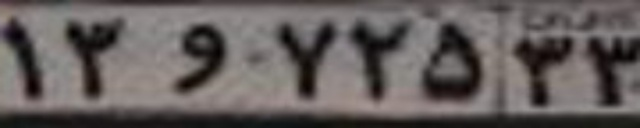1: (2, 15, 42, 97)
2: (352, 18, 414, 99)
3: (63, 15, 125, 98), (515, 36, 572, 104), (589, 35, 639, 106)
5: (421, 22, 483, 99)
7: (279, 20, 337, 99)
vav: (174, 24, 229, 92)
